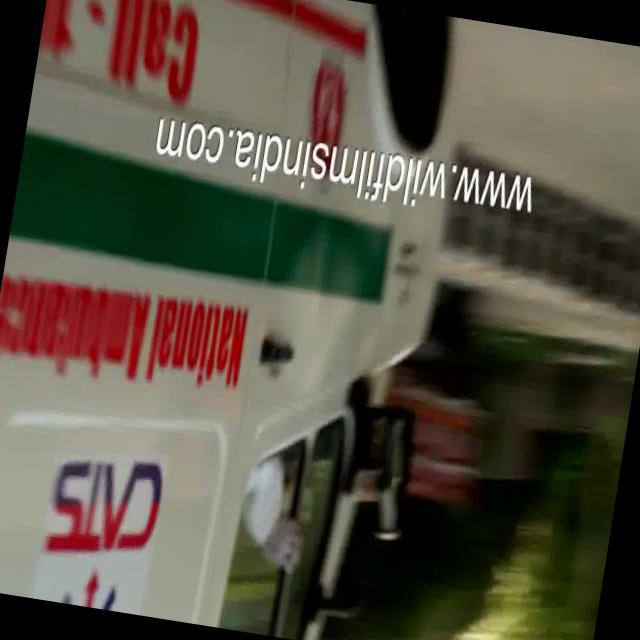ambulance: (0, 163, 453, 640)
